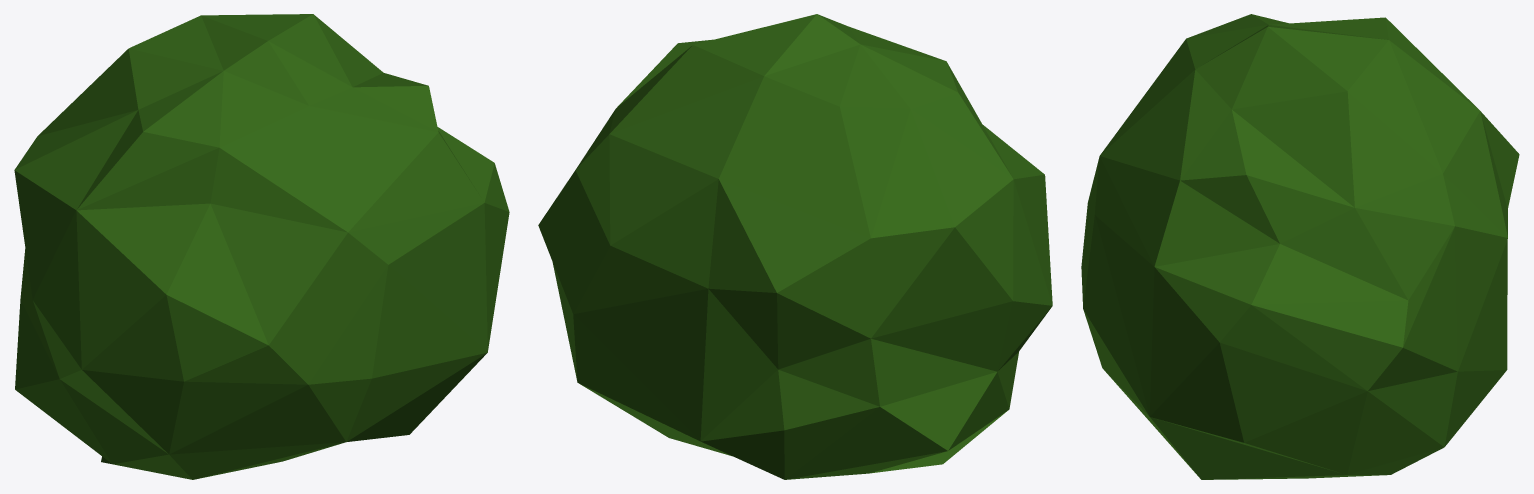
File: bush.fbx
3 views of the same model, side by side, from view 1: azimuth 30°, elevation 25°; view 2: azimuth 150°, elevation 25°; view 3: azimuth 270°, elevation 25° (orthographic).
Visible parts, largest first — view 1: pasted__pCube1; view 2: pasted__pCube1; view 3: pasted__pCube1.
Part boxes in pixels (left/top/right/bottom): pasted__pCube1: left=14, top=14, right=509, bottom=479; pasted__pCube1: left=538, top=14, right=1052, bottom=479; pasted__pCube1: left=1081, top=14, right=1519, bottom=479.
Bounding box in the file's own units: 4.92 × 4.54 × 4.26.
